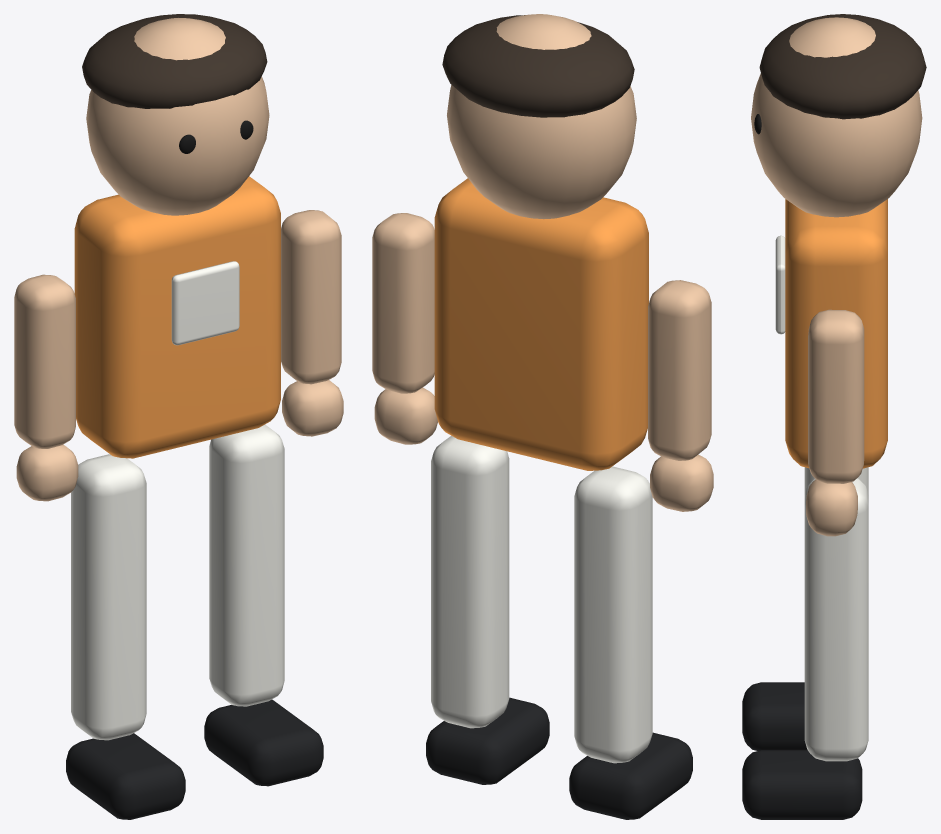
Rendered from cartoon_athlete.glb.
3 views of the same model, side by side, from view 1: azimuth 30°, elevation 25°; view 2: azimuth 150°, elevation 25°; view 3: azimuth 270°, elevation 25° (orthographic). The views are drawn at different scales.
Parts seen in each view (by area): view 1: athlete_torso, athlete_leg_L, athlete_leg_R, athlete_head, athlete_hair_cap, athlete_upper_arm_L, athlete_upper_arm_R, athlete_foot_mesh_R, athlete_foot_mesh_L, athlete_jersey_number_panel, athlete_hand_L.001, athlete_hand_R.001; view 2: athlete_torso, athlete_leg_L, athlete_leg_R, athlete_head, athlete_hair_cap, athlete_upper_arm_L, athlete_upper_arm_R, athlete_foot_mesh_L, athlete_foot_mesh_R, athlete_hand_L.001, athlete_hand_R.001; view 3: athlete_head, athlete_torso, athlete_leg_R, athlete_hair_cap, athlete_upper_arm_R, athlete_foot_mesh_R, athlete_foot_mesh_L, athlete_hand_R.001, athlete_jersey_number_panel.
Boxes of the visible parts, box(x1,y1,x2,y2) form: athlete_torso: box(74, 176, 280, 458); athlete_leg_L: box(71, 454, 146, 740); athlete_leg_R: box(209, 424, 284, 706); athlete_head: box(86, 18, 269, 215); athlete_hair_cap: box(82, 14, 267, 108); athlete_upper_arm_L: box(14, 274, 75, 448); athlete_upper_arm_R: box(281, 210, 341, 384); athlete_foot_mesh_R: box(204, 699, 323, 786); athlete_foot_mesh_L: box(66, 733, 185, 819); athlete_jersey_number_panel: box(171, 261, 239, 345); athlete_hand_L.001: box(16, 444, 78, 501); athlete_hand_R.001: box(282, 380, 343, 436); athlete_torso: box(434, 178, 648, 470); athlete_leg_L: box(574, 466, 652, 763); athlete_leg_R: box(431, 436, 509, 728); athlete_head: box(447, 14, 636, 219); athlete_hair_cap: box(442, 15, 634, 117); athlete_upper_arm_L: box(648, 280, 711, 460); athlete_upper_arm_R: box(372, 213, 434, 393); athlete_foot_mesh_L: box(569, 732, 692, 819); athlete_foot_mesh_R: box(426, 697, 549, 784); athlete_hand_L.001: box(650, 454, 713, 511); athlete_hand_R.001: box(374, 387, 437, 444); athlete_head: box(751, 17, 922, 217); athlete_torso: box(785, 199, 887, 468); athlete_leg_R: box(804, 478, 868, 761); athlete_hair_cap: box(759, 14, 926, 119); athlete_upper_arm_R: box(808, 309, 864, 483); athlete_foot_mesh_R: box(742, 750, 862, 819); athlete_foot_mesh_L: box(742, 682, 807, 750); athlete_hand_R.001: box(806, 479, 857, 536); athlete_jersey_number_panel: box(775, 235, 785, 334).
Bounding box in the file's own units: 0.8599 × 1.93 × 0.43.
